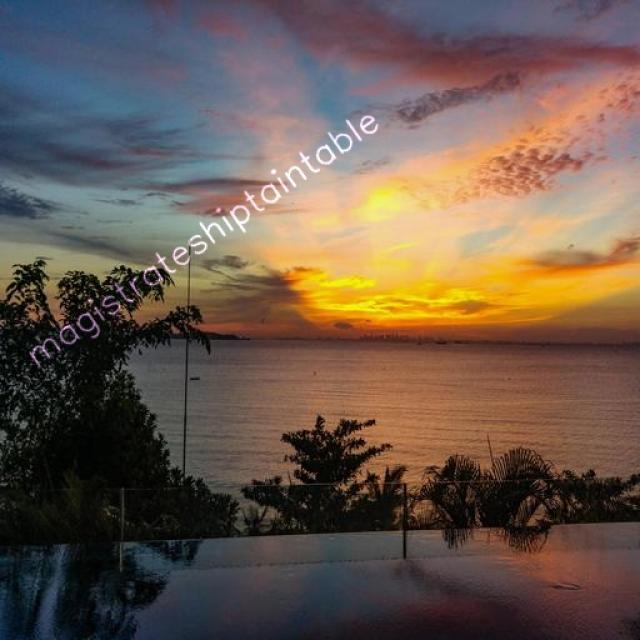watermark: (26, 97, 381, 374)
